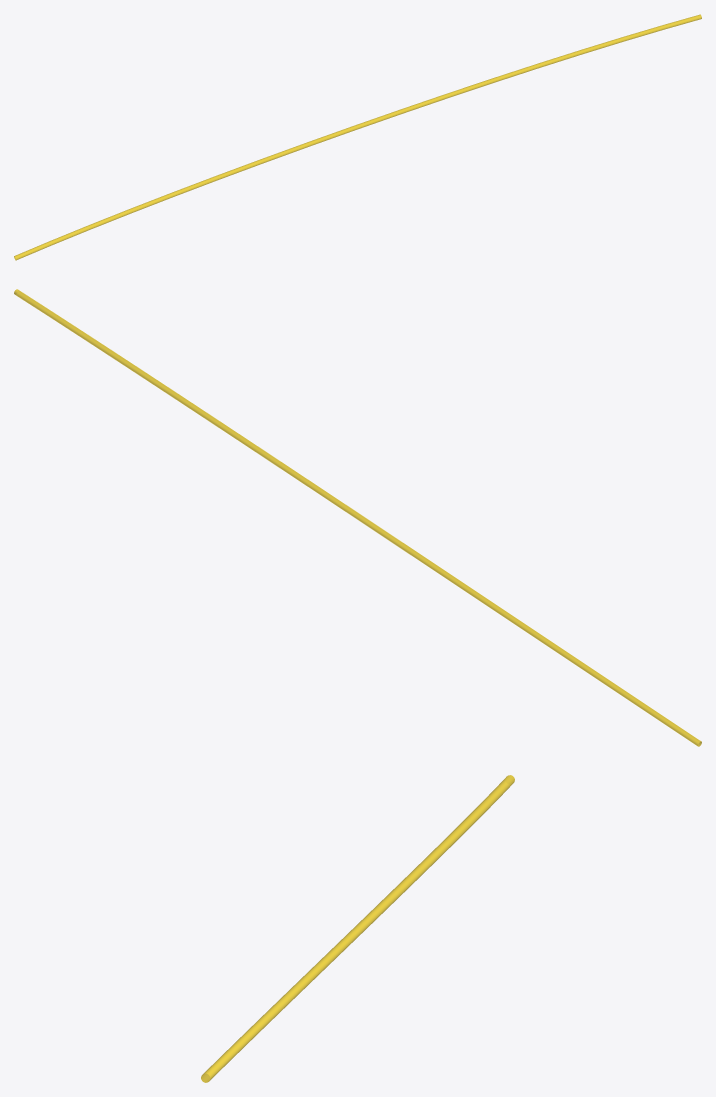
File: Event_15818458_track_68.fbx
3 renders of one model, top to bottom at view 1: azimuth 30°, elevation 25°; view 2: azimuth 150°, elevation 25°; view 3: azimuth 270°, elevation 25°, orthographic. The views are drawn at different scales.
Parts seen in each view (by area): view 1: Model; view 2: Model; view 3: Model.
Boxes of the visible parts, x1=… form: Model: x1=14, y1=14, x2=701, y2=260; Model: x1=14, y1=289, x2=701, y2=746; Model: x1=201, y1=775, x2=514, y2=1082.
Bounding box in the file's own units: 5.88 × 1.4 × 1.31.
